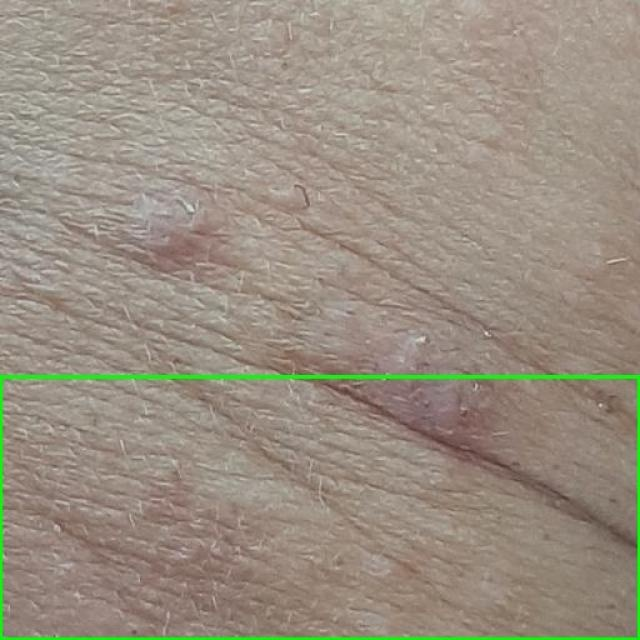Scabies: (0, 376, 639, 639)
